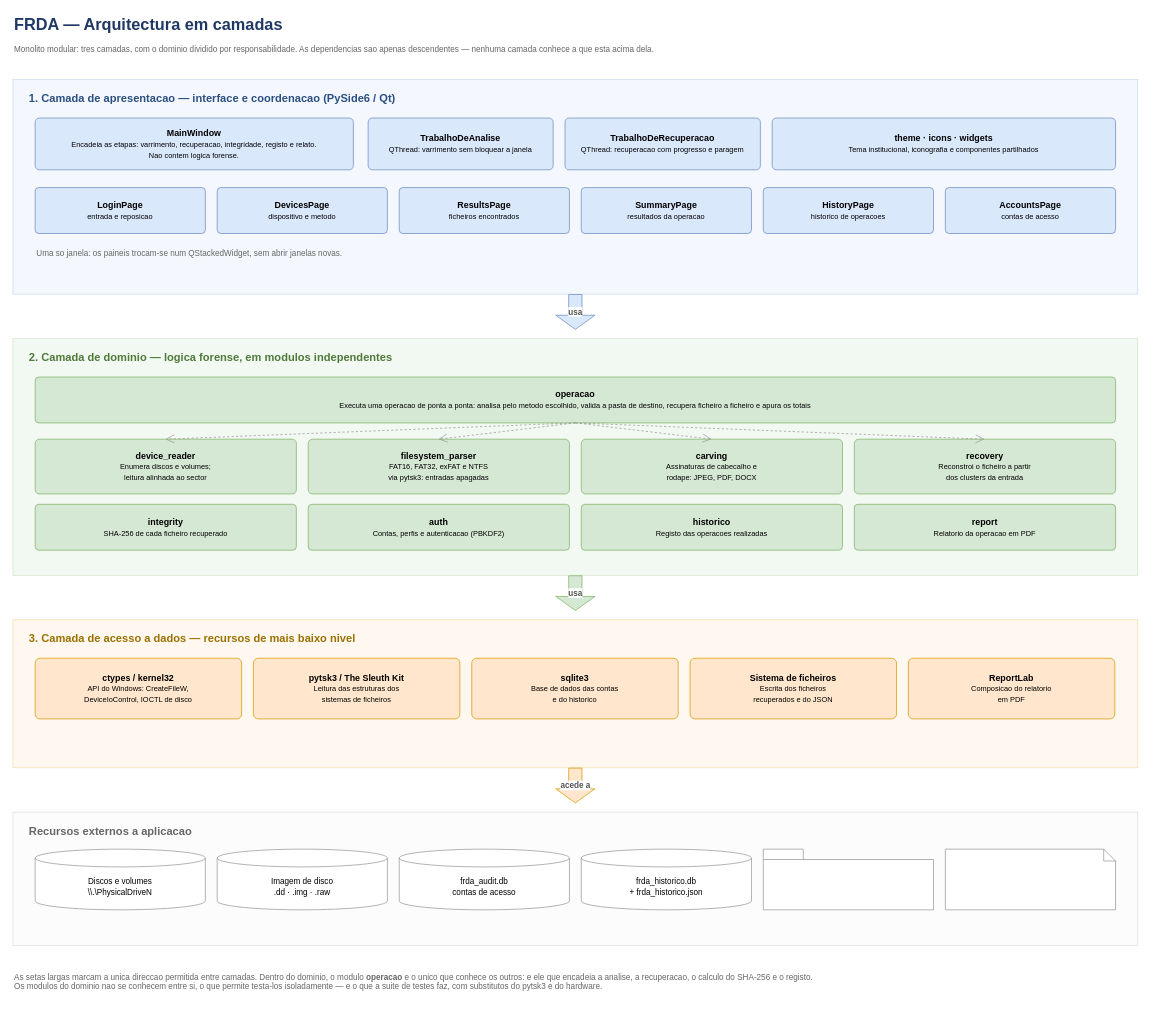
The diagram is 1151 pixels wide and 1024 high, and some of its shapes have lost their labels. The box of each missing label's shape, as (x1, y1, x2, y2) in pixels:
Pasta de destino ficheiros recuperados: (763, 848, 934, 910)
relatorio.pdf relatorio da operacao: (945, 848, 1116, 910)
